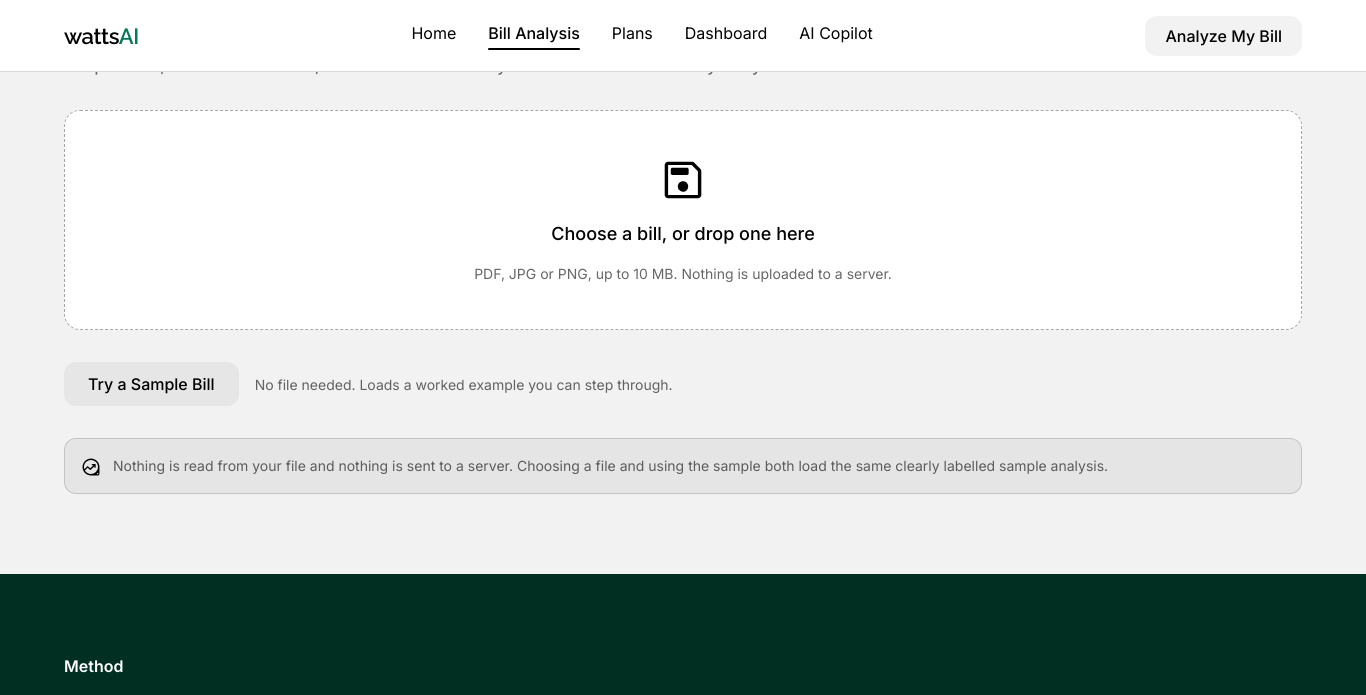
Test case: step progression › renders exactly one step at a time through the whole flow
The width and height of the screenshot is (1366, 695).
(page scrolled)
Click the button "Try a Sample Bill".
click(151, 384)  # box [64,362,239,406]
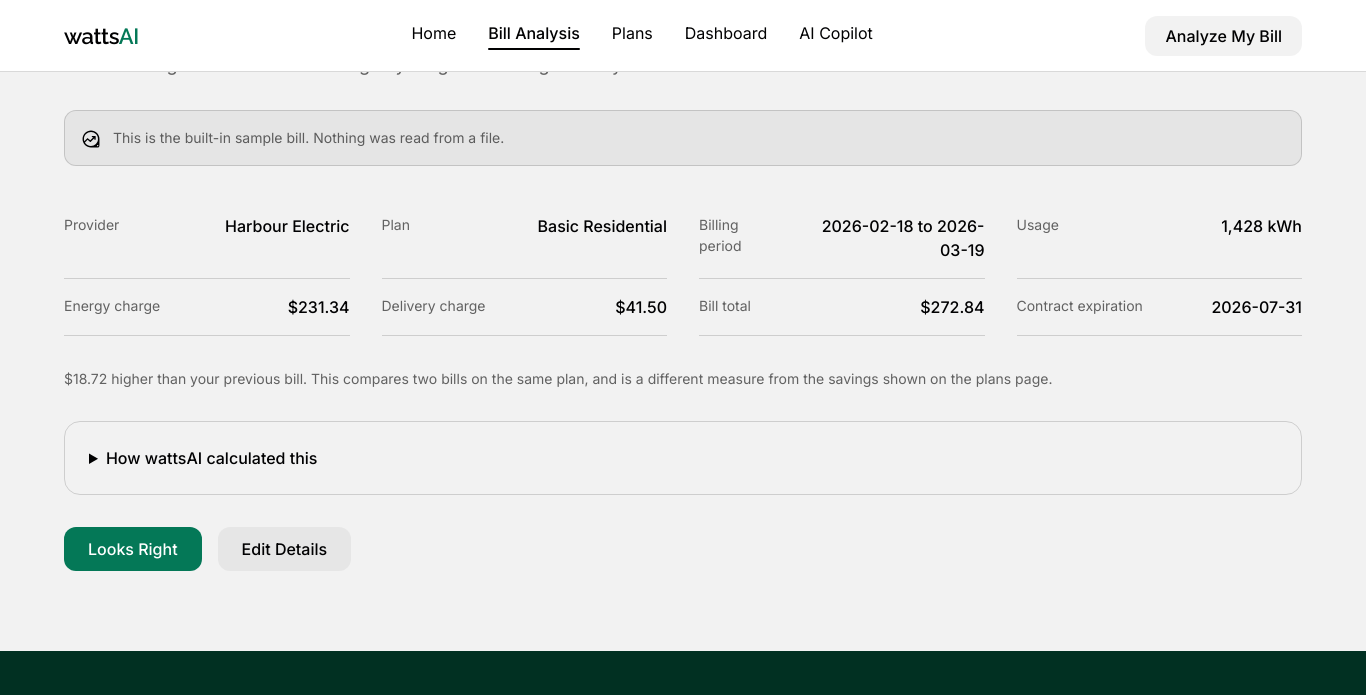
Expected: the heading "upload your bill" is not shown
Expected: the heading "build your home profile" is not shown
Click the button "Looks Right".
click(133, 549)  # box [64,527,202,571]
(page scrolled)
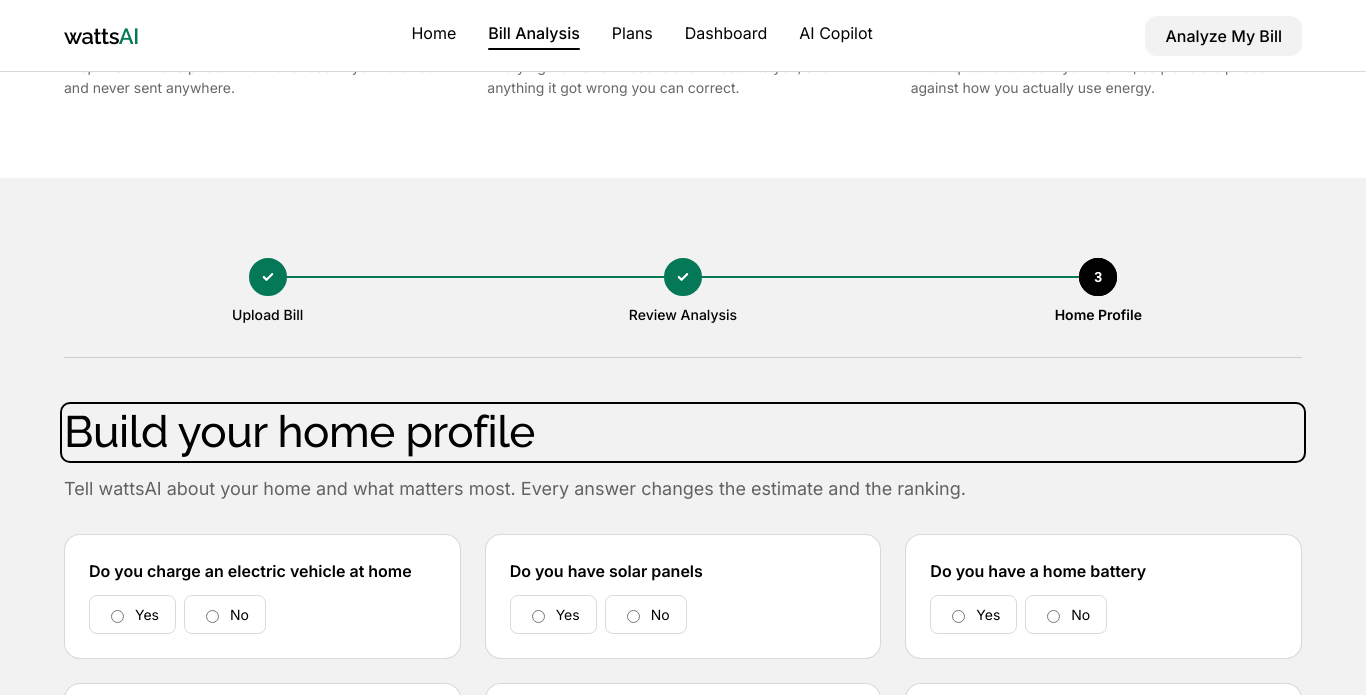
Expected: the heading "We analyzed your bill" is not shown
Expected: the heading "Build your home profile" is shown, [64,406,535,457]
